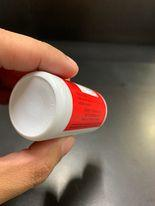-Bottle-: (9, 71, 107, 141)
